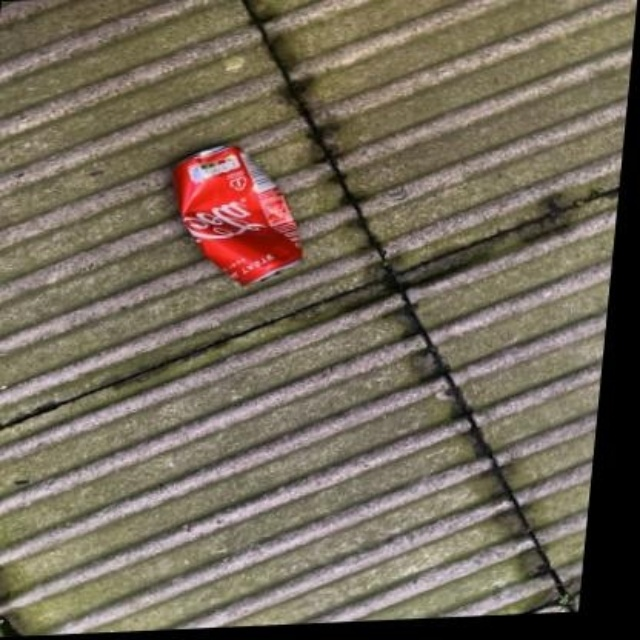trash: (172, 146, 300, 283)
